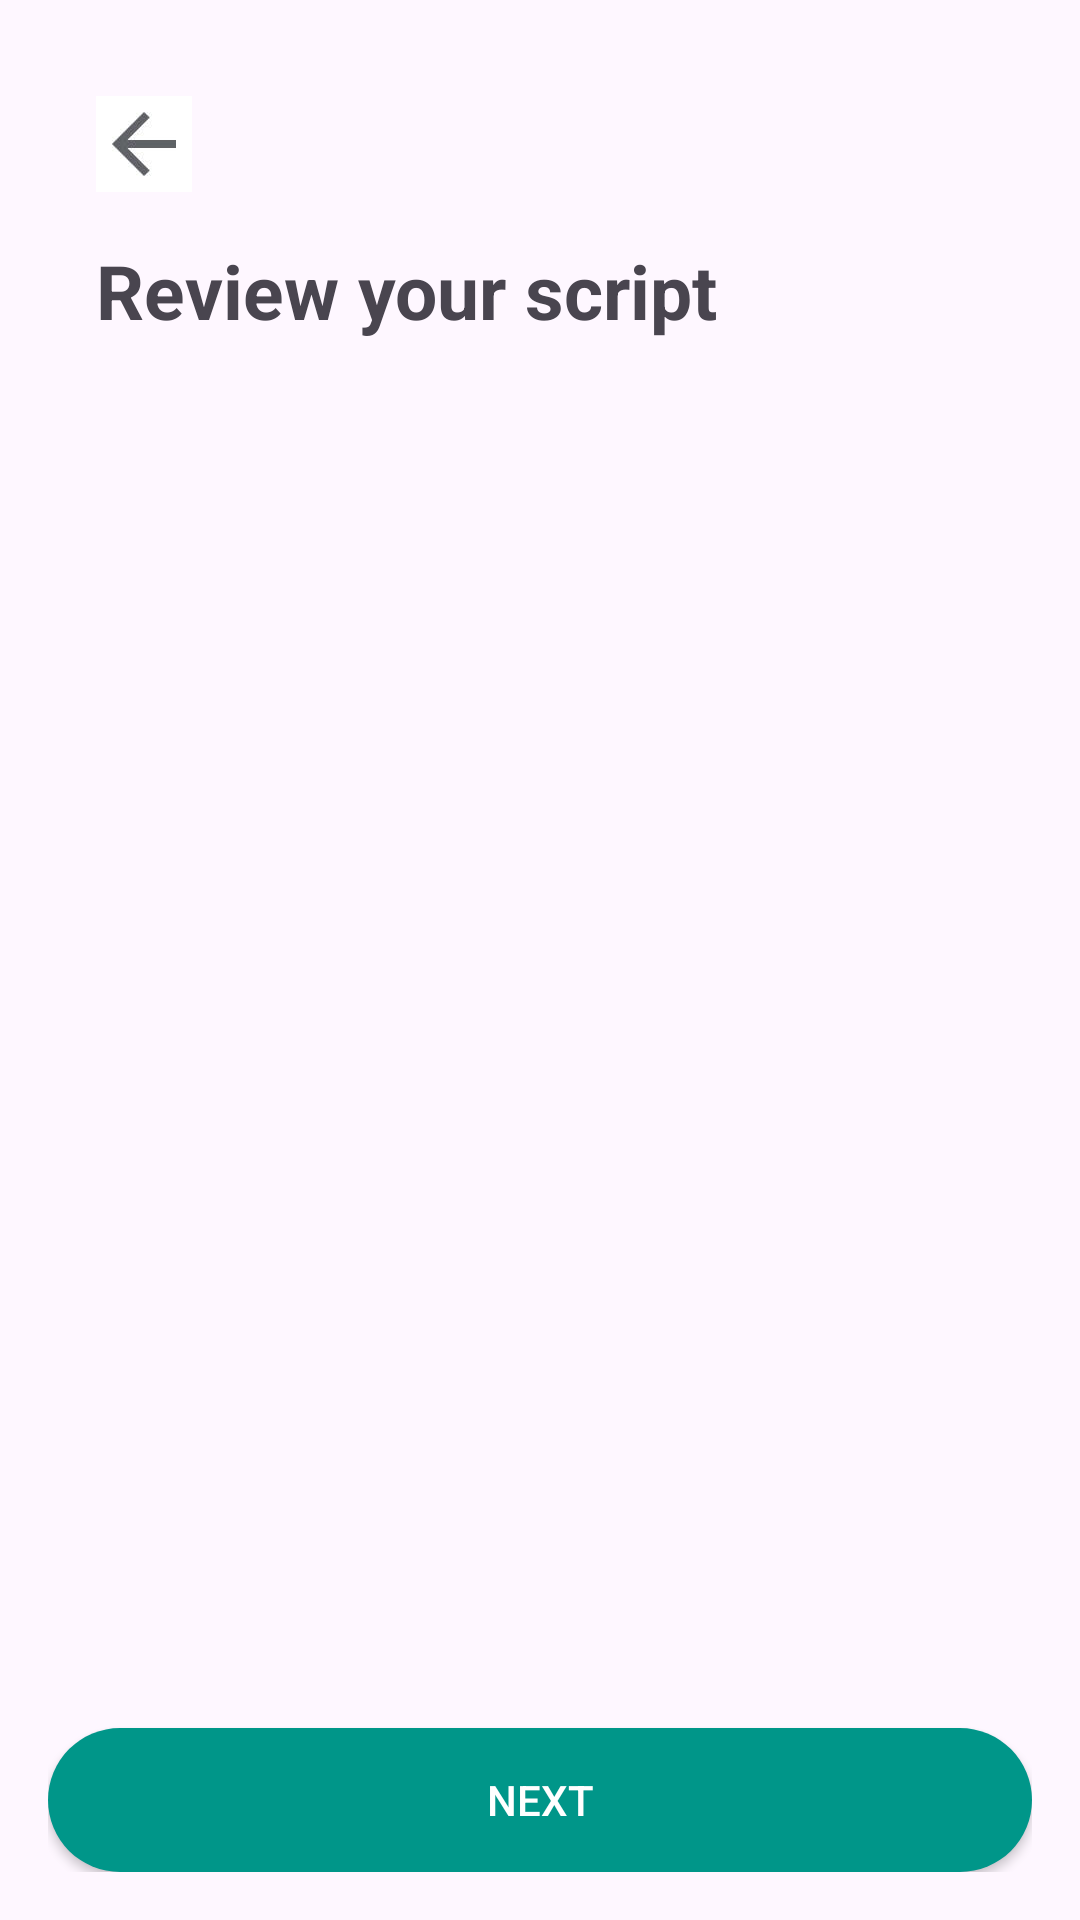

Screen size 1080*1920. Icon name, then its box in pixels as BBox(x1, y1, x2, y2):
Back: BBox(112, 112, 176, 176)
